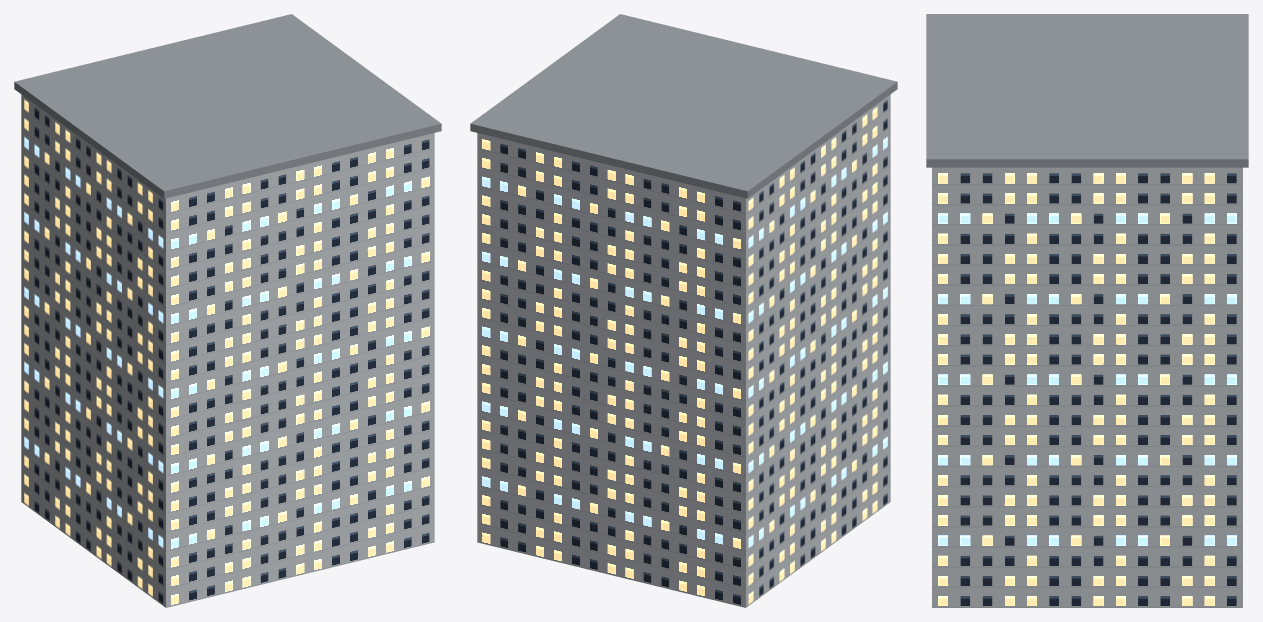
The model's file is gedung_umum_1.glb.
3 renders of one model, left to right at view 1: azimuth 30°, elevation 25°; view 2: azimuth 150°, elevation 25°; view 3: azimuth 270°, elevation 25°, orthographic. The views are drawn at different scales.
Bounding box in the file's own units: 15.5 × 22.4 × 14.5.
2 materials, 1 textured.
